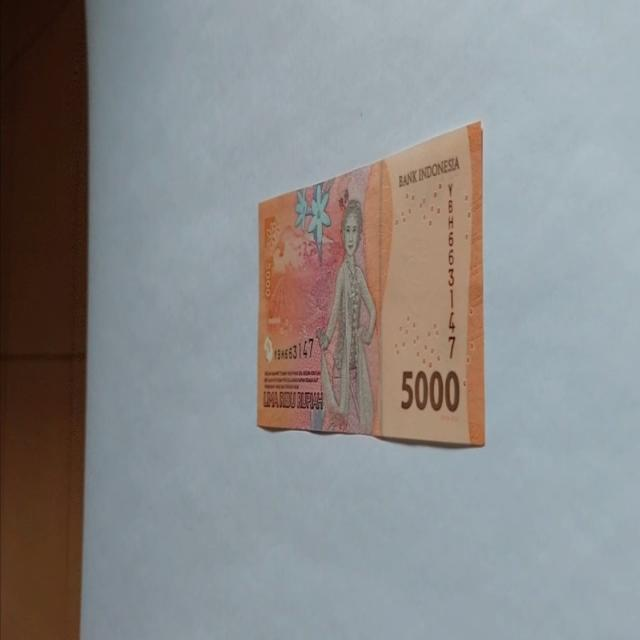lima ribu rupiah: (255, 119, 485, 448), (314, 198, 378, 434)
